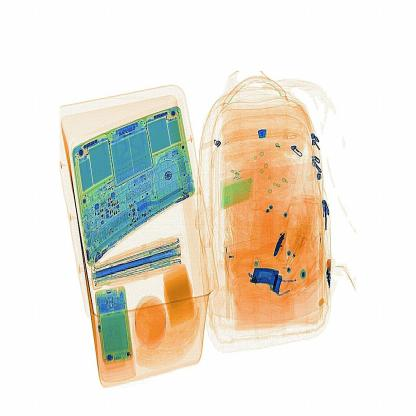wrench: (259, 227, 290, 257)
